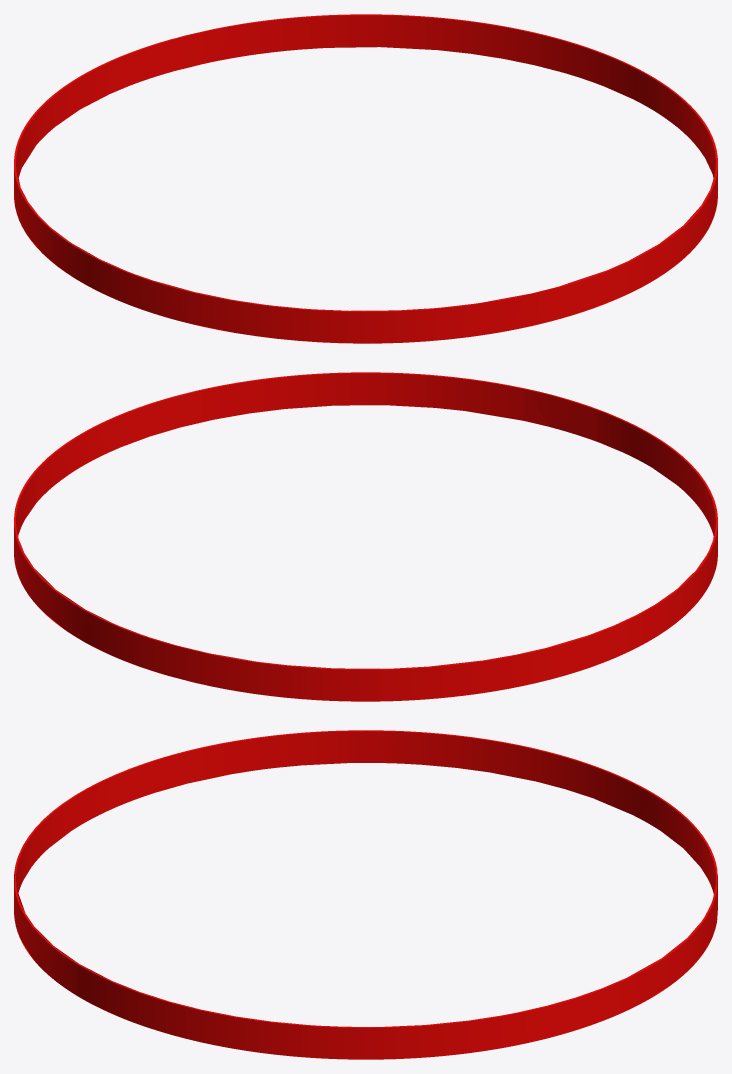
Rendered from SunCoreMesh.fbx.
The picture shows the model from 3 angles, top to bottom: view 1: azimuth 30°, elevation 25°; view 2: azimuth 150°, elevation 25°; view 3: azimuth 270°, elevation 25°; orthographic projection.
Parts seen in each view (by area): view 1: Curve; view 2: Curve; view 3: Curve.
Part boxes in pixels (x1,y1,x2,y2): Curve: (14,14,717,343); Curve: (14,372,717,701); Curve: (14,730,717,1059).
Size of the model in its own units: 80.22 by 4 by 80.21.
